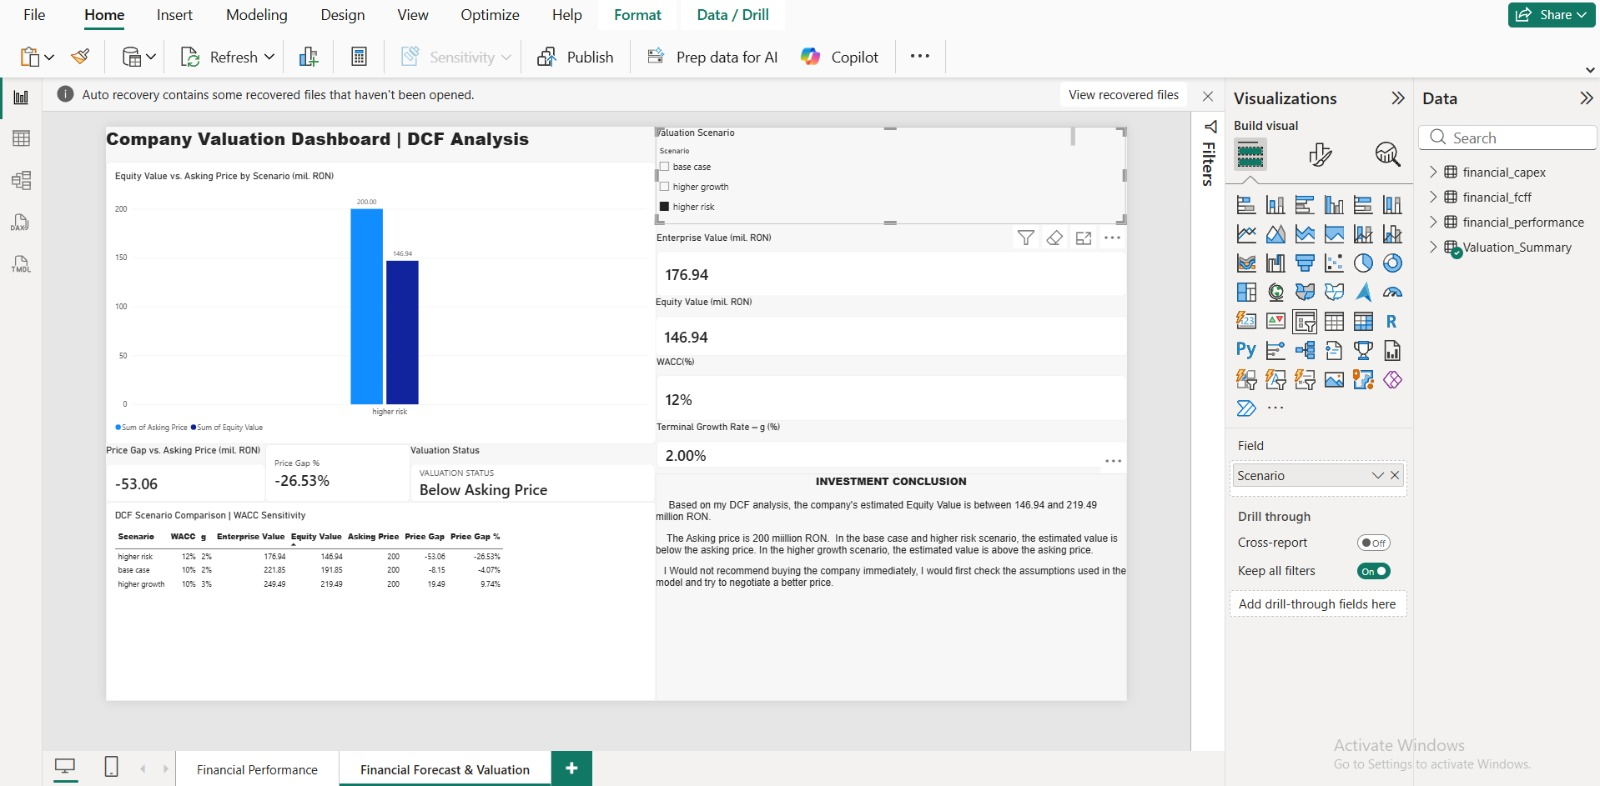

Layout of this report page (visuals, bound fields, positions):
{"tool":"powerbi","page":{"name":"Financial Forecast & Valuation","canvas":[1920,1080],"ordinal":1},"visuals":[{"type":"textbox","box":[0,0,1822.4,46.9],"z":0},{"type":"clusteredColumnChart","title":"Equity Value vs. Asking Price by Scenario (mil. RON)","fields":{"Category":["Valuation_Summary.Scenario"],"Y":["Sum(Valuation_Summary.Asking Price)","Sum(Valuation_Summary.Equity Value)"]},"box":[0,67.3,1034.7,530.6],"z":1000},{"type":"slicer","title":"Valuation Scenario","fields":{"Values":["Valuation_Summary.Scenario"]},"box":[1032.6,0,884.8,182.6],"z":2000},{"type":"cardVisual","title":"Enterprise Value (mil. RON)","fields":{"Data":["Sum(Valuation_Summary.Enterprise Value)"]},"box":[1034.8,197.8,884.8,121.7],"z":3000},{"type":"cardVisual","title":"Equity Value (mil. RON)","fields":{"Data":["Sum(Valuation_Summary.Equity Value)"]},"box":[1032.6,319.6,887.8,112.2],"z":4000},{"type":"cardVisual","title":"Price Gap vs. Asking Price (mil. RON)","fields":{"Data":["Valuation_Summary.Price Gap"]},"box":[0,598,300,108],"z":5000},{"type":"cardVisual","fields":{"Data":["Valuation_Summary.Price Gap %"]},"box":[300,598,272,108],"z":6000},{"type":"cardVisual","title":"WACC(%)","fields":{"Data":["Sum(Valuation_Summary.WACC)"]},"box":[1034.8,430.4,885.7,122.4],"z":7000},{"type":"cardVisual","title":"Terminal Growth Rate – g (%)","fields":{"Data":["Sum(Valuation_Summary.g)"]},"box":[1034.8,554.3,885.7,87.8],"z":8000},{"type":"cardVisual","title":"Valuation Status","fields":{"Data":["Valuation_Summary.VALUATION STATUS"]},"box":[572,598,460,108],"z":9000},{"type":"tableEx","title":"DCF Scenario Comparison | WACC Sensitivity","fields":{"Values":["Valuation_Summary.Scenario","Sum(Valuation_Summary.WACC)","Sum(Valuation_Summary.g)","Sum(Valuation_Summary.Enterprise Value)","Sum(Valuation_Summary.Equity Value)","Sum(Valuation_Summary.Asking Price)","Valuation_Summary.Price Gap","Valuation_Summary.Price Gap %"]},"box":[0,706,1034,374],"z":10000},{"type":"textbox","box":[1034,652,886,428],"z":10001}]}

Visuals, with their boxes on the page's 1920x1080 design canvas (x1, y1, x2, y2). These are canvas units, not pixel positions in the 1600x786 screenshot, which may show the page scaled, cropped or inside an application window:
textbox: 0 0 1822 47
"Equity Value vs. Asking Price by Scenario (mil. RON)" clusteredColumnChart: 0 67 1035 598
"Valuation Scenario" slicer: 1033 0 1917 183
"Enterprise Value (mil. RON)" cardVisual: 1035 198 1920 320
"Equity Value (mil. RON)" cardVisual: 1033 320 1920 432
"Price Gap vs. Asking Price (mil. RON)" cardVisual: 0 598 300 706
cardVisual - Valuation_Summary.Price Gap %: 300 598 572 706
"WACC(%)" cardVisual: 1035 430 1920 553
"Terminal Growth Rate – g (%)" cardVisual: 1035 554 1920 642
"Valuation Status" cardVisual: 572 598 1032 706
"DCF Scenario Comparison | WACC Sensitivity" tableEx: 0 706 1034 1080
textbox: 1034 652 1920 1080
